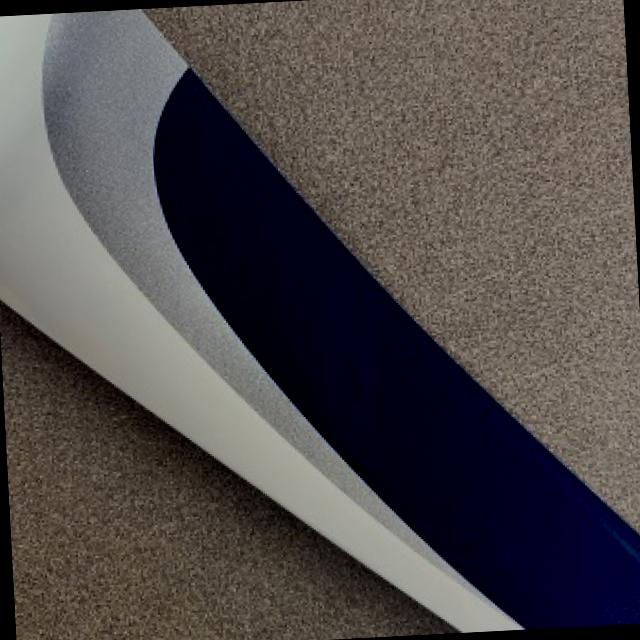healthy: (0, 0, 640, 630)
